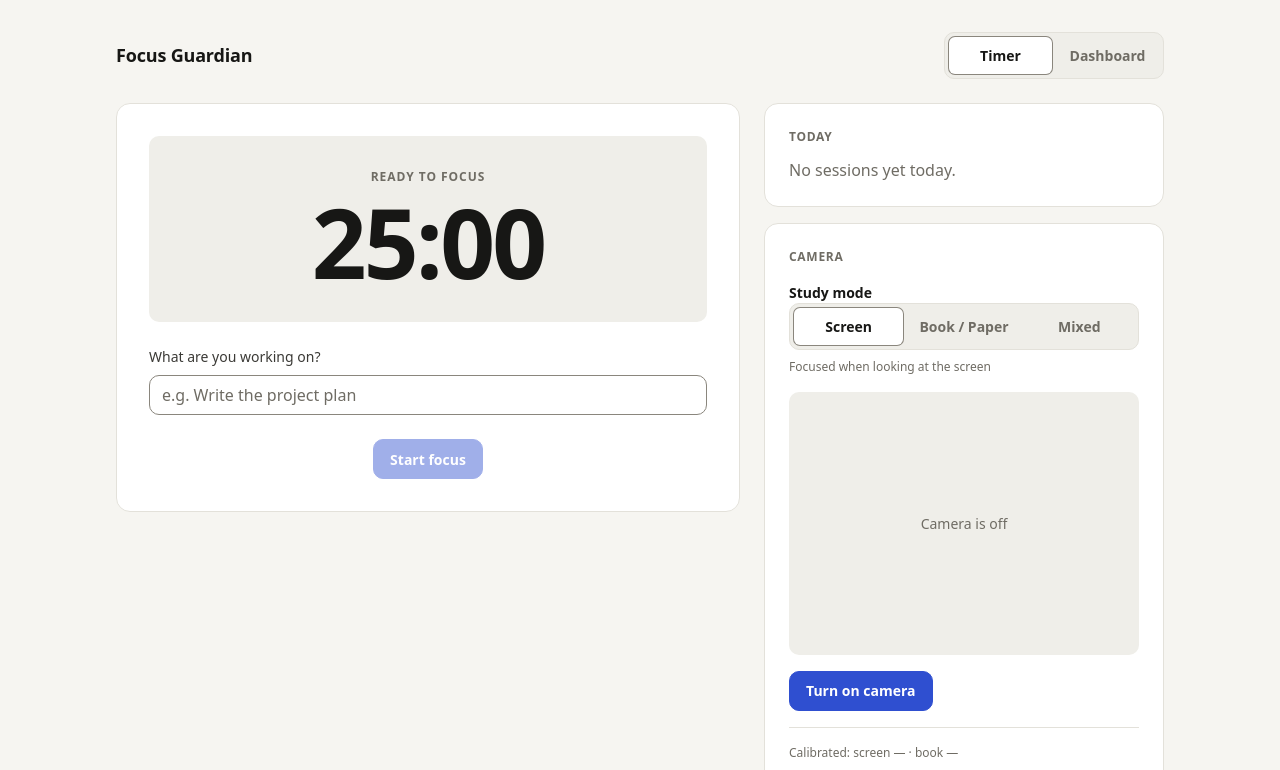
Test: App › starts a session with Enter and keeps keyboard focus in the session card
The image size is (1280, 770).
Type "Write the essay" into the field labelled "What are you working on?" at {"x": 428, "y": 395}, box [149, 375, 707, 415]
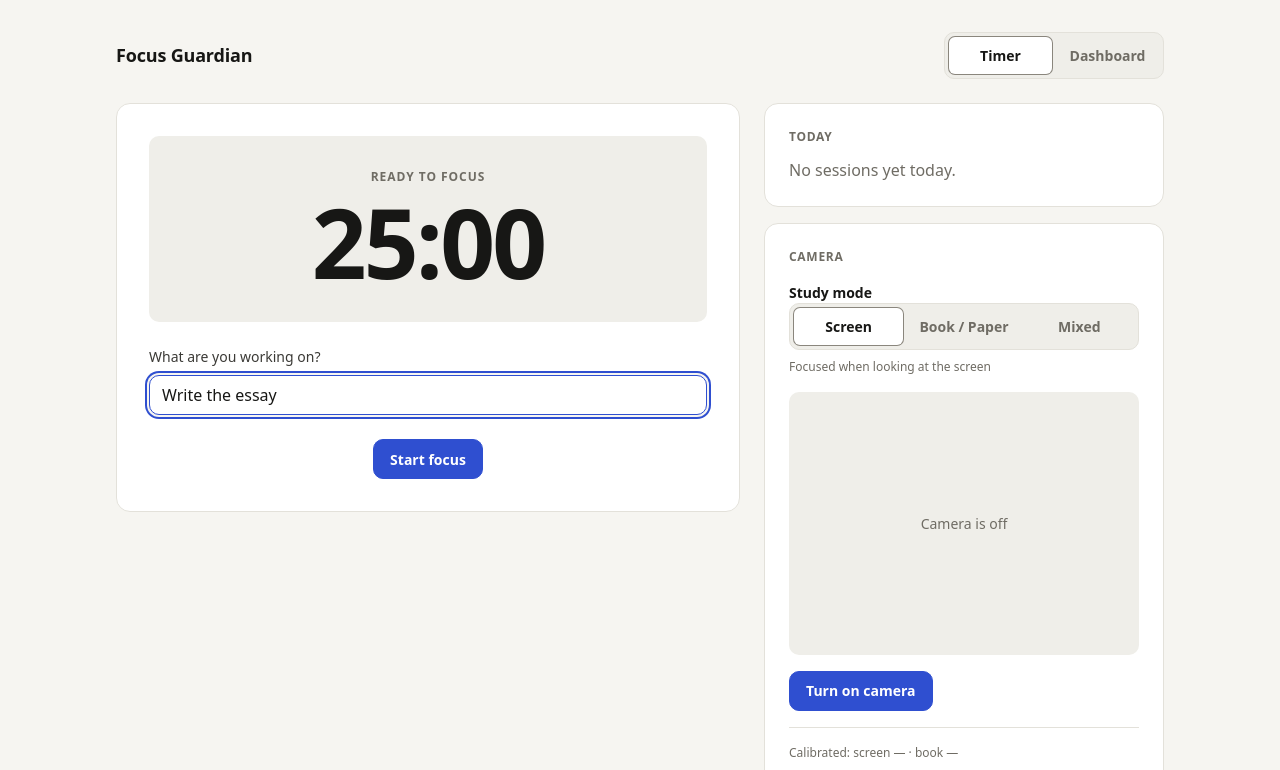
Press Enter in the field labelled "What are you working on?", box [149, 375, 707, 415]
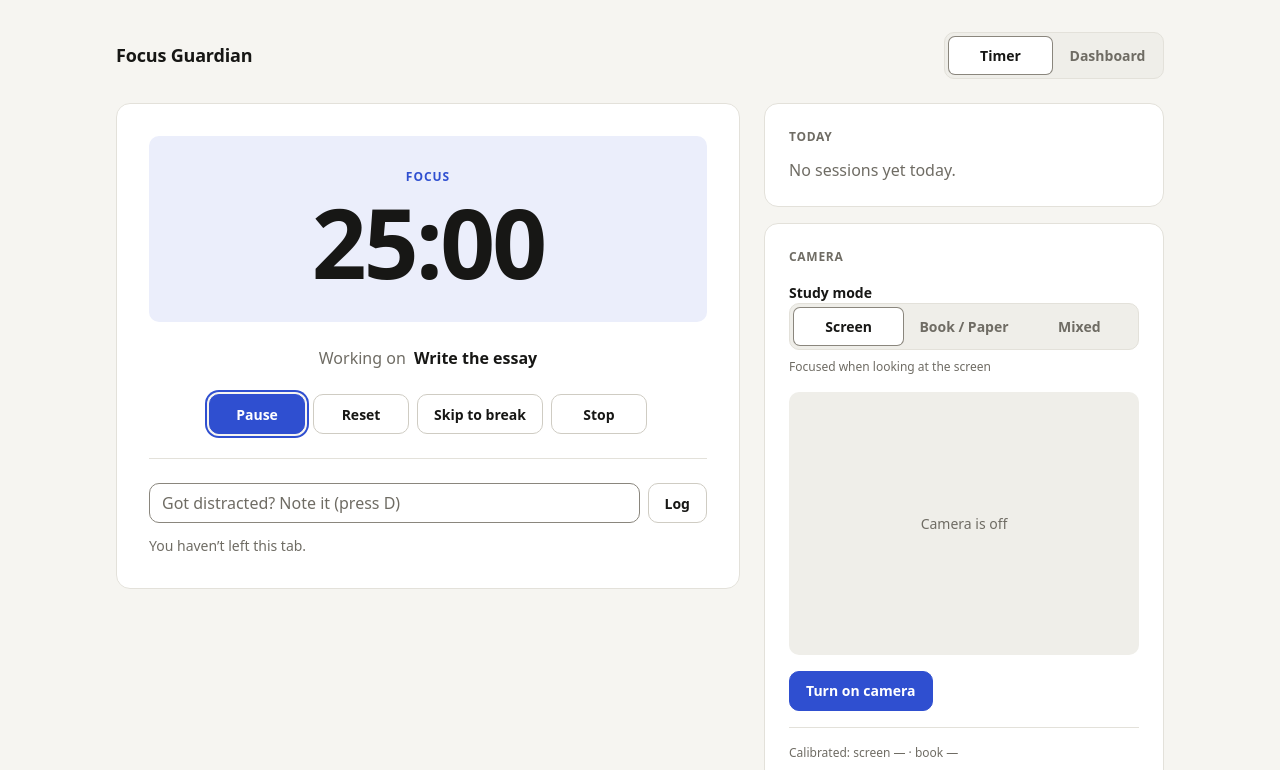
expect the text "Write the essay" is shown: met, box [414, 347, 537, 369]
